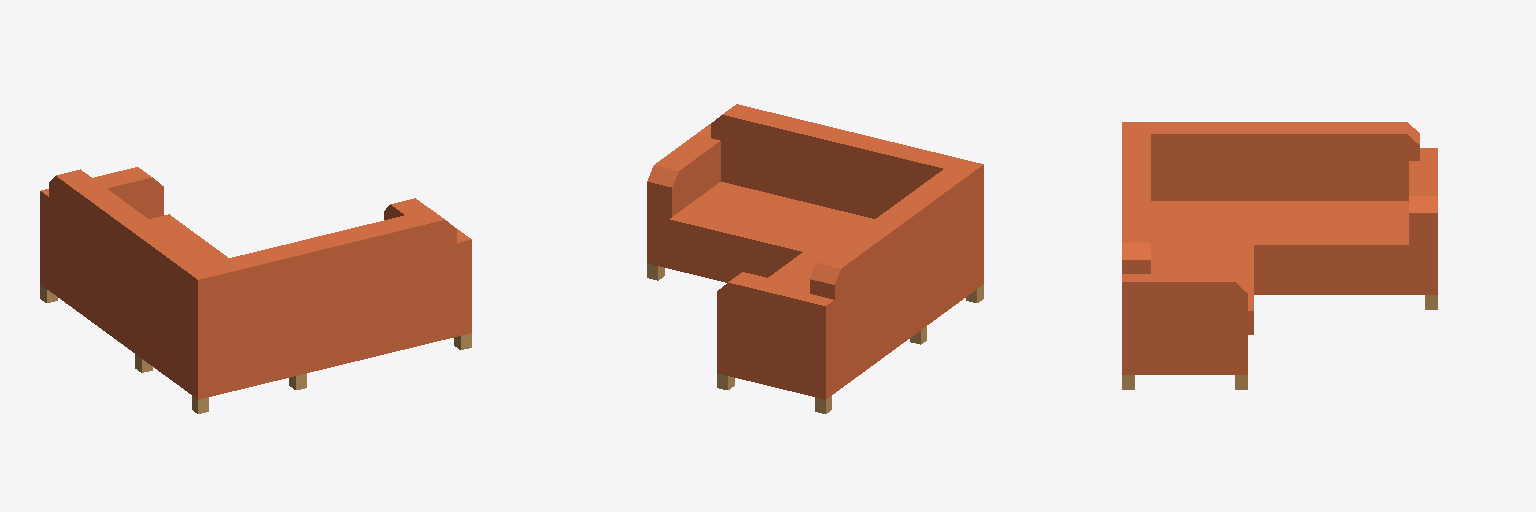
Rendered from CornerSofa.obj.
3 renders of one model, left to right at view 1: azimuth 30°, elevation 25°; view 2: azimuth 150°, elevation 25°; view 3: azimuth 270°, elevation 25°, orthographic.
Parts seen in each view (by area): view 1: Sofa-col_loungeSofaCorner-col-rigid; view 2: Sofa-col_loungeSofaCorner-col-rigid; view 3: Sofa-col_loungeSofaCorner-col-rigid.
Boxes of the visible parts, x1=… form: Sofa-col_loungeSofaCorner-col-rigid: x1=40, y1=167, x2=471, y2=413; Sofa-col_loungeSofaCorner-col-rigid: x1=647, y1=104, x2=983, y2=413; Sofa-col_loungeSofaCorner-col-rigid: x1=1122, y1=122, x2=1437, y2=389.
Size of the model in its own units: 9.8 by 4.6 by 9.8.